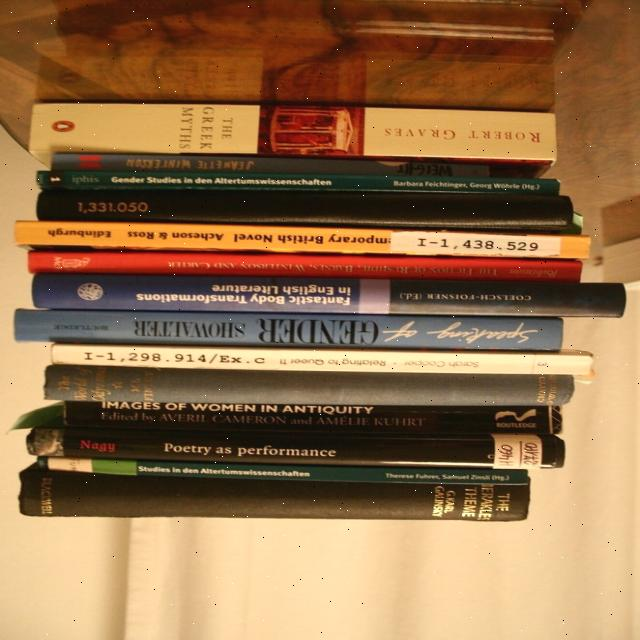book: (30, 101, 559, 161), (9, 222, 593, 263), (12, 309, 565, 351), (35, 280, 635, 318), (33, 188, 570, 226), (29, 251, 584, 287), (22, 479, 528, 518), (44, 366, 575, 403), (49, 343, 590, 377), (41, 453, 528, 489), (36, 169, 576, 200), (66, 403, 564, 435), (27, 438, 565, 463), (50, 150, 542, 177)
